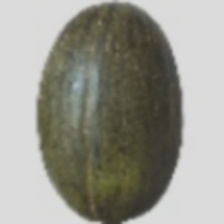honeydew: (44, 25, 219, 189)
